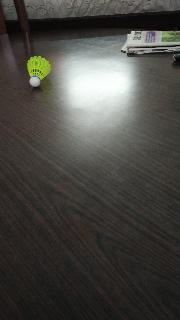shuttlecock: (26, 55, 50, 85)
